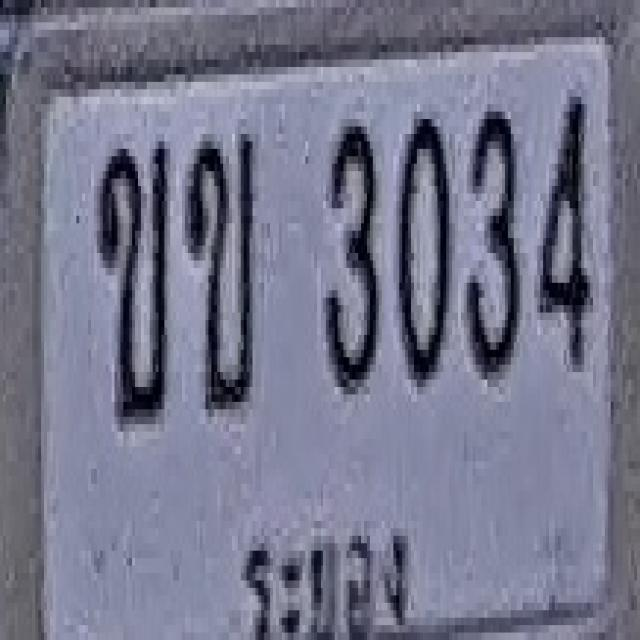0: (396, 108, 449, 383)
3: (465, 100, 521, 376), (323, 115, 379, 391)
4: (537, 89, 590, 365)
A02: (95, 137, 169, 420), (185, 126, 255, 410)
RYG: (235, 505, 418, 640)
